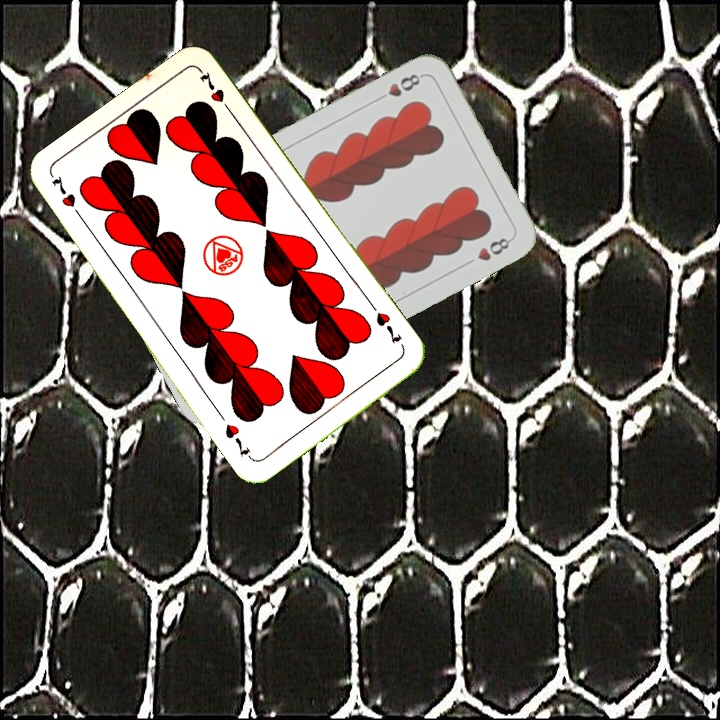H7: (47, 171, 87, 224), (371, 308, 405, 347)
H8: (372, 69, 426, 104)
